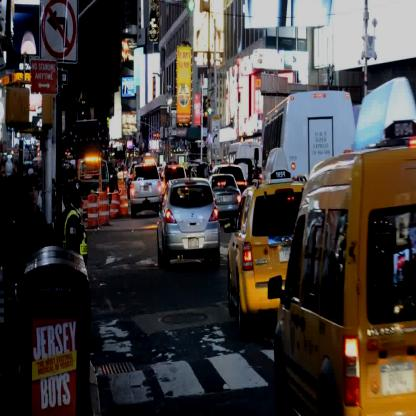car: (274, 142, 416, 416), (228, 182, 307, 341), (157, 178, 221, 272), (208, 174, 242, 231), (130, 164, 161, 216)
